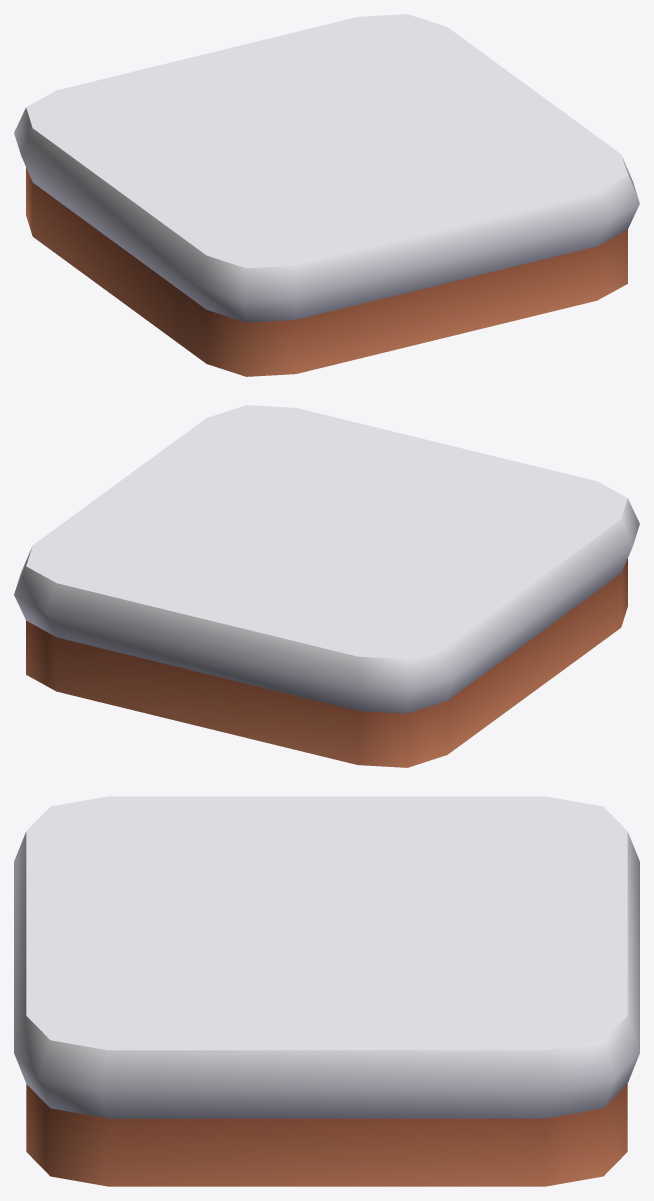
File: kenney-platformer-block-snow-low-large.glb
The picture shows the model from 3 angles, top to bottom: view 1: azimuth 30°, elevation 25°; view 2: azimuth 150°, elevation 25°; view 3: azimuth 270°, elevation 25°; orthographic projection. The views are drawn at different scales.
Parts seen in each view (by area): view 1: block-snow-low-large; view 2: block-snow-low-large; view 3: block-snow-low-large.
Boxes of the visible parts, left/top/right/bottom form: block-snow-low-large: left=14, top=14, right=639, bottom=376; block-snow-low-large: left=14, top=405, right=639, bottom=767; block-snow-low-large: left=14, top=796, right=639, bottom=1186.
Size of the model in its own units: 2.08 by 0.5 by 2.08.
1 material, 1 textured.
